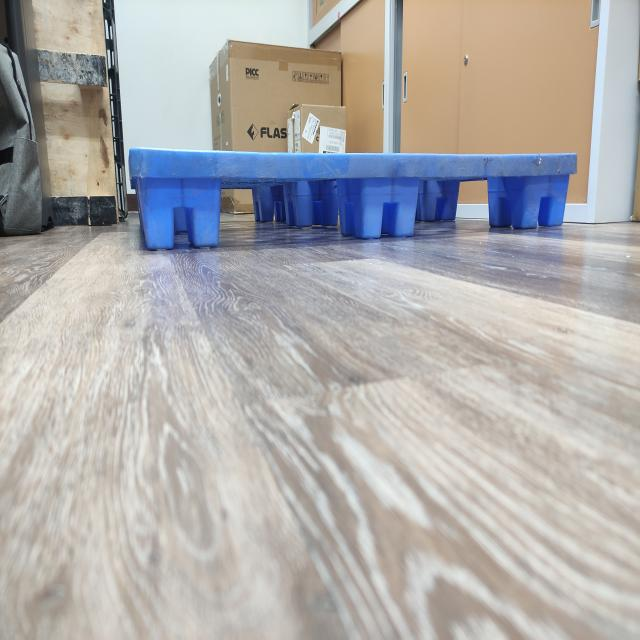block: (137, 181, 227, 252), (361, 182, 422, 243), (519, 178, 574, 232)
front: (124, 150, 578, 252)
